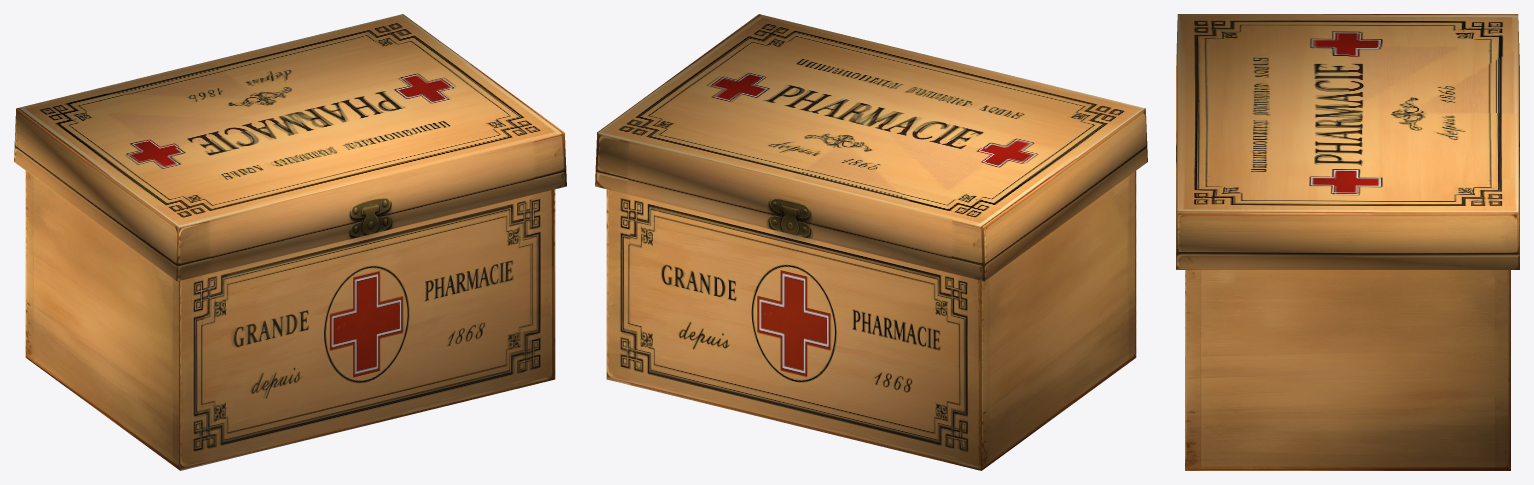
The model's file is Firstaid_Box 1.fbx.
The picture shows the model from 3 angles, left to right: view 1: azimuth 30°, elevation 25°; view 2: azimuth 150°, elevation 25°; view 3: azimuth 270°, elevation 25°; orthographic projection. The views are drawn at different scales.
Parts seen in each view (by area): view 1: Firstaid_Box; view 2: Firstaid_Box; view 3: Firstaid_Box.
Part boxes in pixels (x1=…): Firstaid_Box: x1=14, y1=14, x2=566, y2=470; Firstaid_Box: x1=595, y1=14, x2=1147, y2=470; Firstaid_Box: x1=1176, y1=14, x2=1519, y2=470.
Size of the model in its own units: 63.72 by 38.78 by 46.26.
